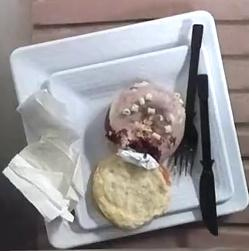dessert: (92, 24, 216, 234)
